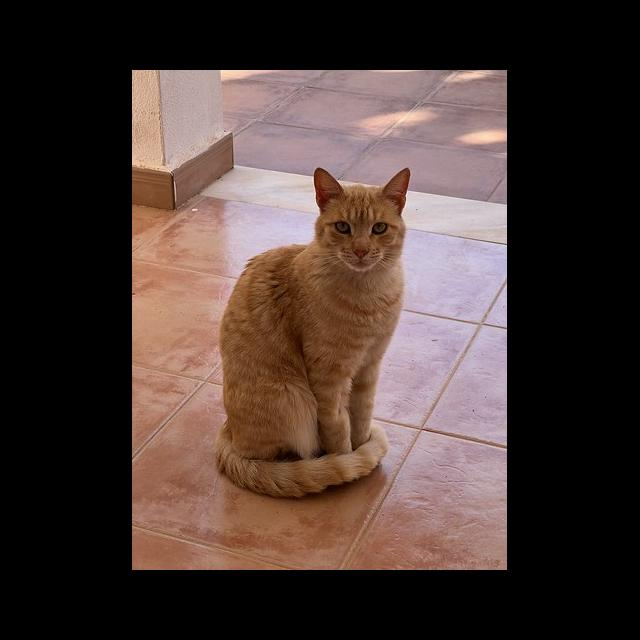animals: (217, 168, 409, 498)
